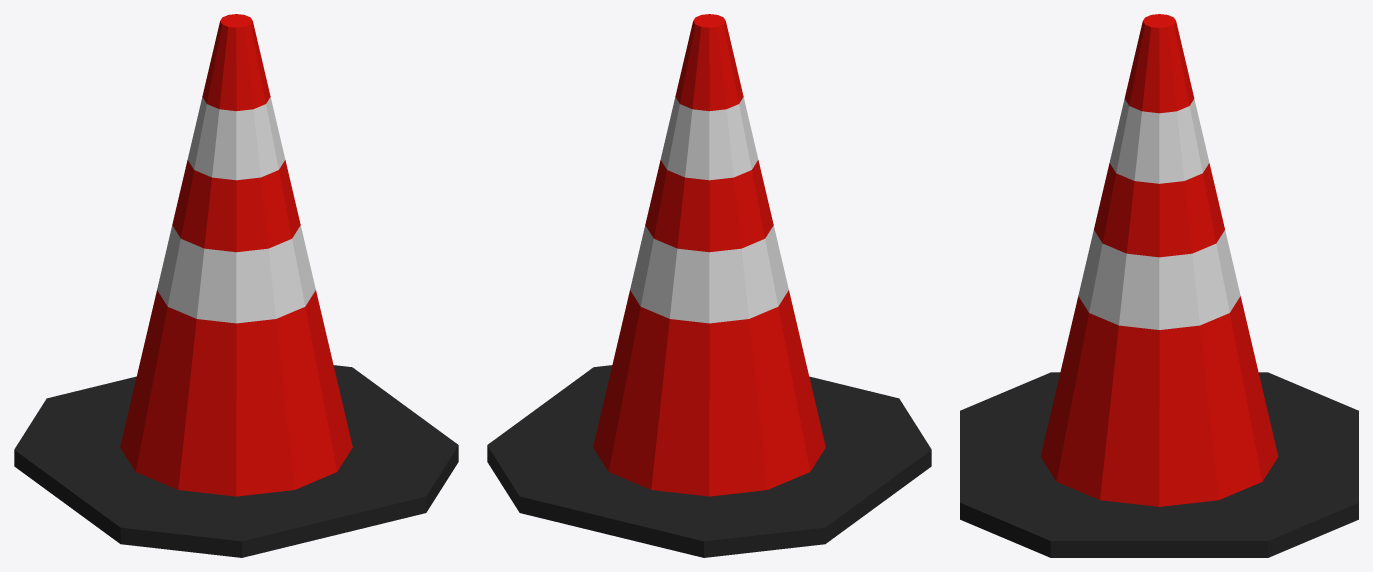
3 views of the same model, side by side, from view 1: azimuth 30°, elevation 25°; view 2: azimuth 150°, elevation 25°; view 3: azimuth 270°, elevation 25° (orthographic). The views are drawn at different scales.
Parts seen in each view (by area): view 1: Cone; view 2: Cone; view 3: Cone.
Part boxes in pixels (bbox=[...]): Cone: bbox=[14, 14, 458, 557]; Cone: bbox=[487, 14, 931, 557]; Cone: bbox=[960, 14, 1358, 557].
Bounding box in the file's own units: 142 × 179 × 142.
